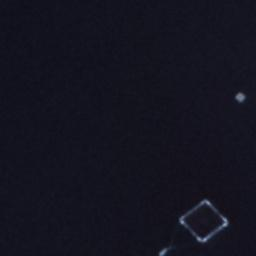square_solid: (174, 194, 231, 248)
